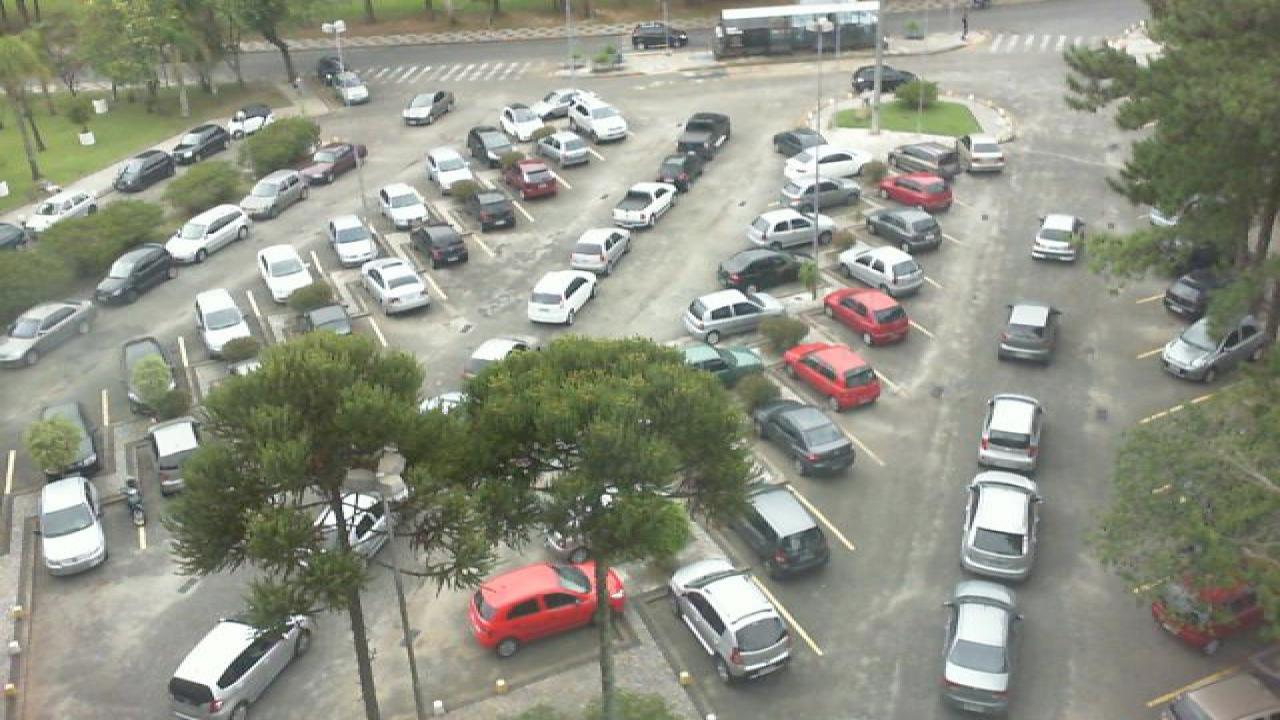Car: (662, 558, 794, 685), (166, 614, 314, 720), (466, 558, 630, 650), (940, 580, 1024, 716), (730, 482, 834, 582), (962, 470, 1042, 576), (752, 397, 858, 477), (1158, 316, 1266, 385), (36, 474, 108, 577), (782, 342, 882, 414), (680, 287, 792, 345), (0, 298, 92, 368), (162, 202, 258, 264), (820, 284, 912, 346), (976, 391, 1044, 472), (92, 243, 178, 307), (714, 248, 816, 298), (836, 245, 926, 299), (120, 336, 180, 414), (194, 286, 256, 359), (996, 302, 1066, 366), (672, 340, 770, 384), (148, 416, 202, 494), (526, 269, 600, 325), (364, 257, 434, 316), (742, 208, 836, 250), (862, 210, 946, 256), (290, 140, 370, 185), (258, 244, 318, 303), (610, 180, 680, 230), (770, 178, 864, 215), (238, 170, 312, 217), (568, 225, 632, 276), (878, 171, 958, 210), (410, 219, 472, 269), (778, 147, 866, 181), (882, 141, 960, 179), (1160, 264, 1216, 316), (110, 152, 178, 193), (164, 123, 232, 163), (1028, 214, 1080, 266), (326, 215, 380, 265), (28, 187, 100, 224), (502, 156, 562, 200), (568, 101, 628, 144), (462, 187, 518, 233), (676, 112, 732, 158), (376, 182, 430, 228), (654, 150, 710, 194), (400, 89, 458, 127), (426, 145, 476, 189), (774, 126, 836, 160), (628, 20, 690, 52), (538, 132, 592, 168), (222, 105, 276, 140), (464, 125, 516, 161), (850, 64, 910, 95), (496, 105, 546, 142), (966, 136, 1006, 173), (330, 70, 372, 105)
